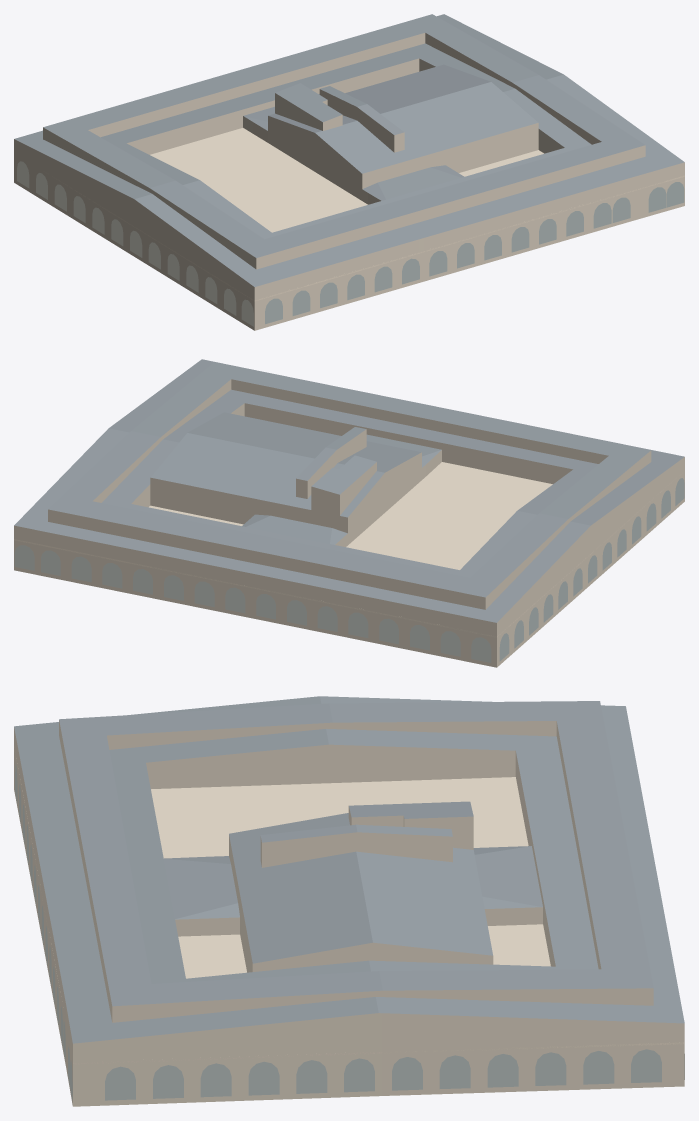
3 views of the same model, one above another, from view 1: azimuth 30°, elevation 25°; view 2: azimuth 150°, elevation 25°; view 3: azimuth 270°, elevation 25° (orthographic). The views are drawn at different scales.
Parts seen in each view (by area): view 1: roof, stone, window, trim; view 2: roof, stone, window, trim; view 3: roof, stone, window.
Boxes of the visible parts, left/top/right/bottom form: roof: left=14, top=14, right=684, bottom=286; stone: left=14, top=32, right=684, bottom=330; window: left=17, top=161, right=684, bottom=326; trim: left=43, top=171, right=684, bottom=301; roof: left=14, top=359, right=684, bottom=622; stone: left=14, top=379, right=684, bottom=667; window: left=14, top=478, right=684, bottom=662; trim: left=14, top=478, right=676, bottom=637; roof: left=14, top=696, right=684, bottom=1043; stone: left=14, top=720, right=684, bottom=1106; window: left=15, top=764, right=684, bottom=1100.
Size of the model in its own units: 97.6 by 16.2 by 81.99.
